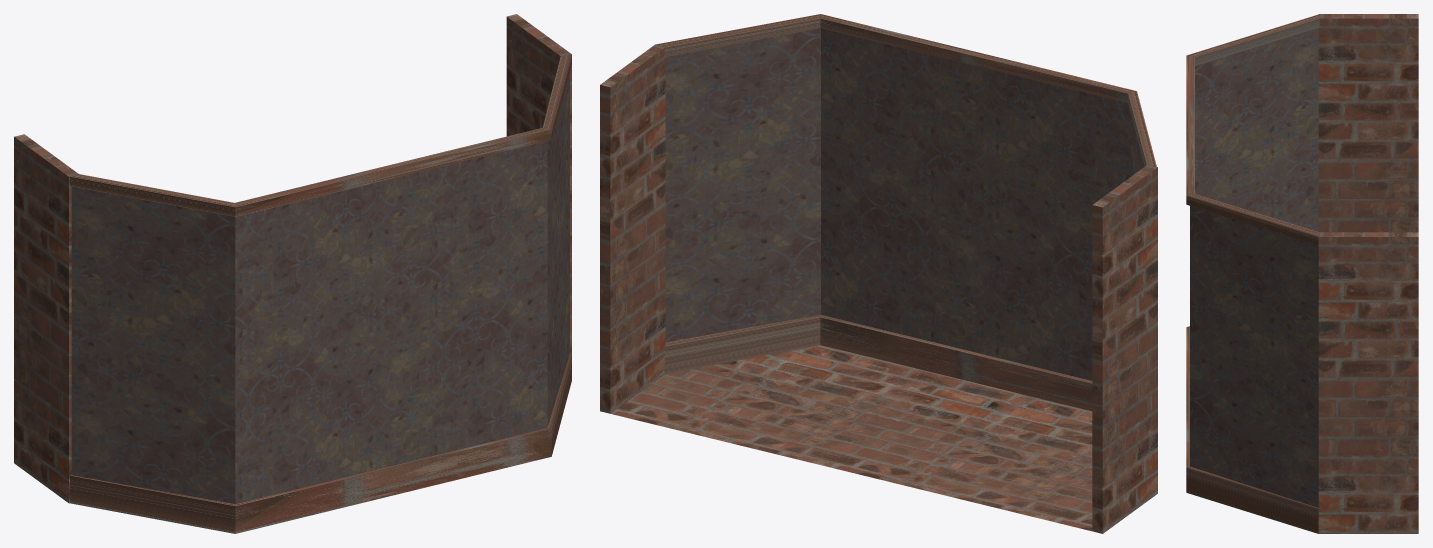
The model's file is BalconyHotel.glb.
The picture shows the model from 3 angles, left to right: view 1: azimuth 30°, elevation 25°; view 2: azimuth 150°, elevation 25°; view 3: azimuth 270°, elevation 25°; orthographic projection. The views are drawn at different scales.
Parts seen in each view (by area): view 1: Cube; view 2: Cube; view 3: Cube.
Boxes of the visible parts, box(x1,y1,x2,y2) form: Cube: box(14, 14, 571, 533); Cube: box(600, 14, 1157, 533); Cube: box(1186, 14, 1418, 533).
Size of the model in its own units: 3.22 by 2 by 1.42.
2 materials, 2 textured.
